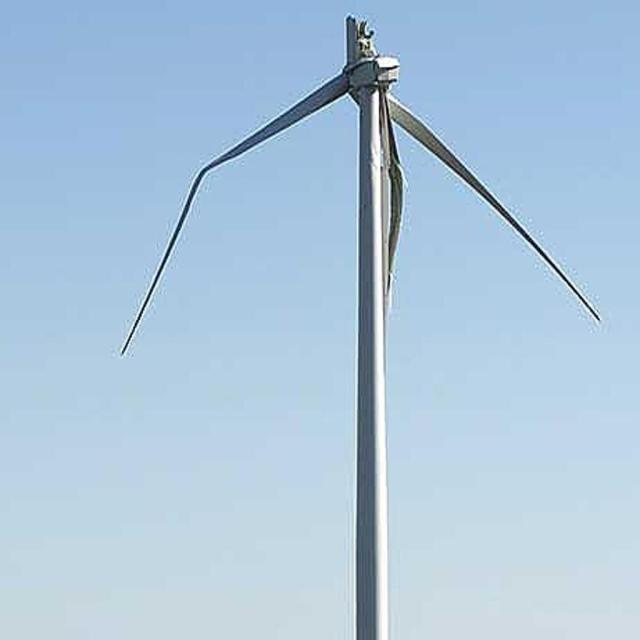crack: (115, 133, 245, 354), (341, 10, 412, 291)
